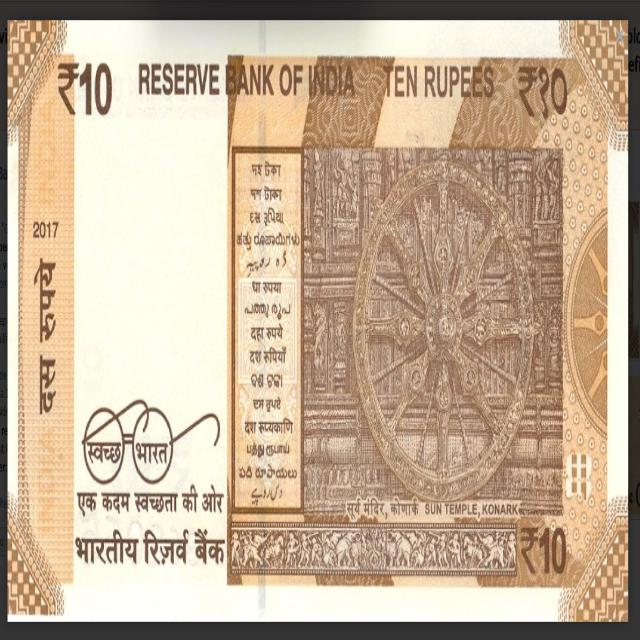10IndianRupees: (8, 20, 628, 621)
